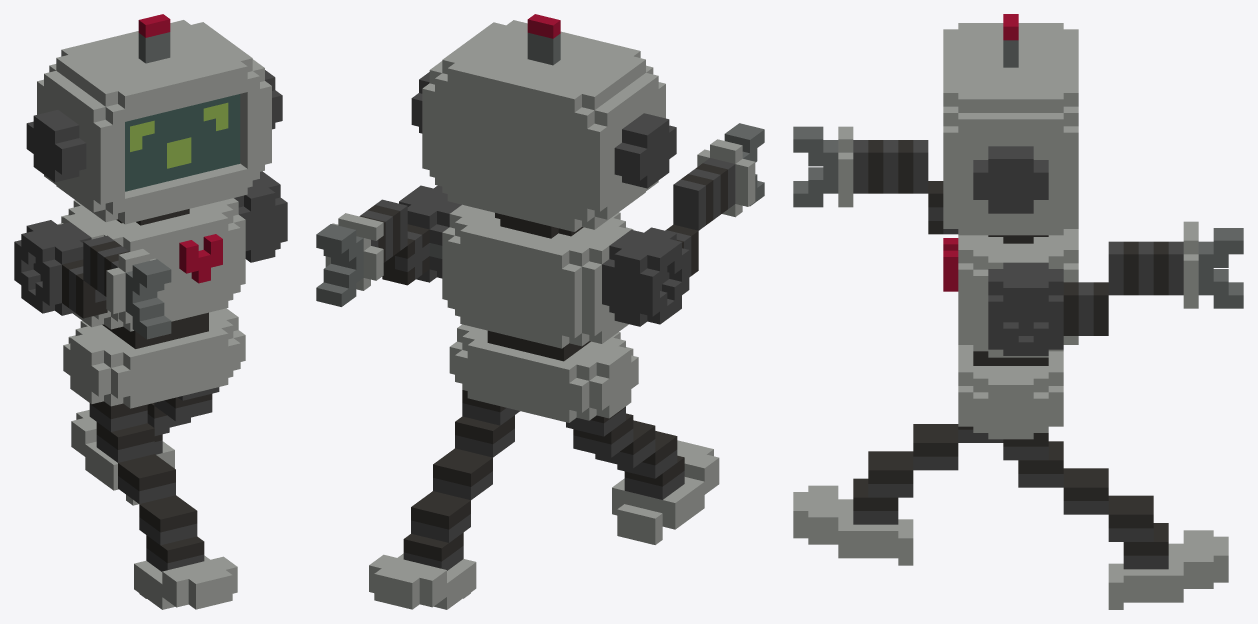
Rendered from player_main_jump-start_2.fbx.
The picture shows the model from 3 angles, left to right: view 1: azimuth 30°, elevation 25°; view 2: azimuth 150°, elevation 25°; view 3: azimuth 270°, elevation 25°; orthographic projection. The views are drawn at different scales.
Visible parts, largest first — view 1: model_2; view 2: model_2; view 3: model_2.
Part boxes in pixels (bbox=[...]): model_2: bbox=[14, 14, 287, 609]; model_2: bbox=[316, 14, 764, 609]; model_2: bbox=[793, 14, 1243, 609].
Size of the model in its own units: 200 by 300 by 410.
